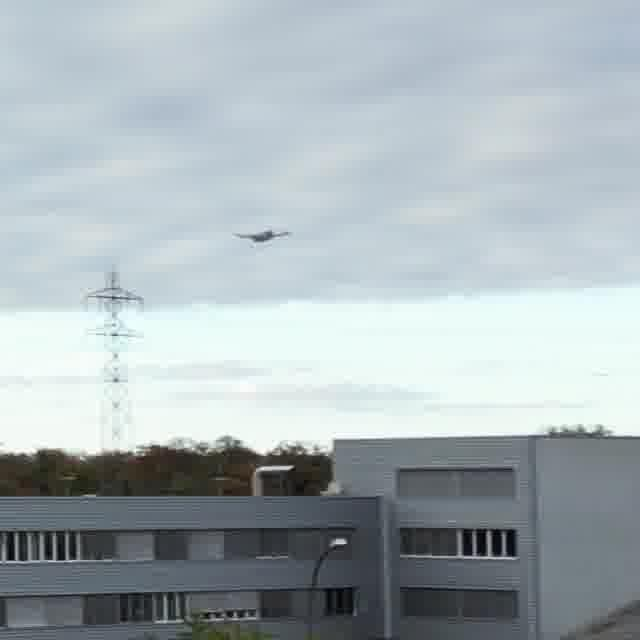Drohne: (234, 229, 291, 243)
